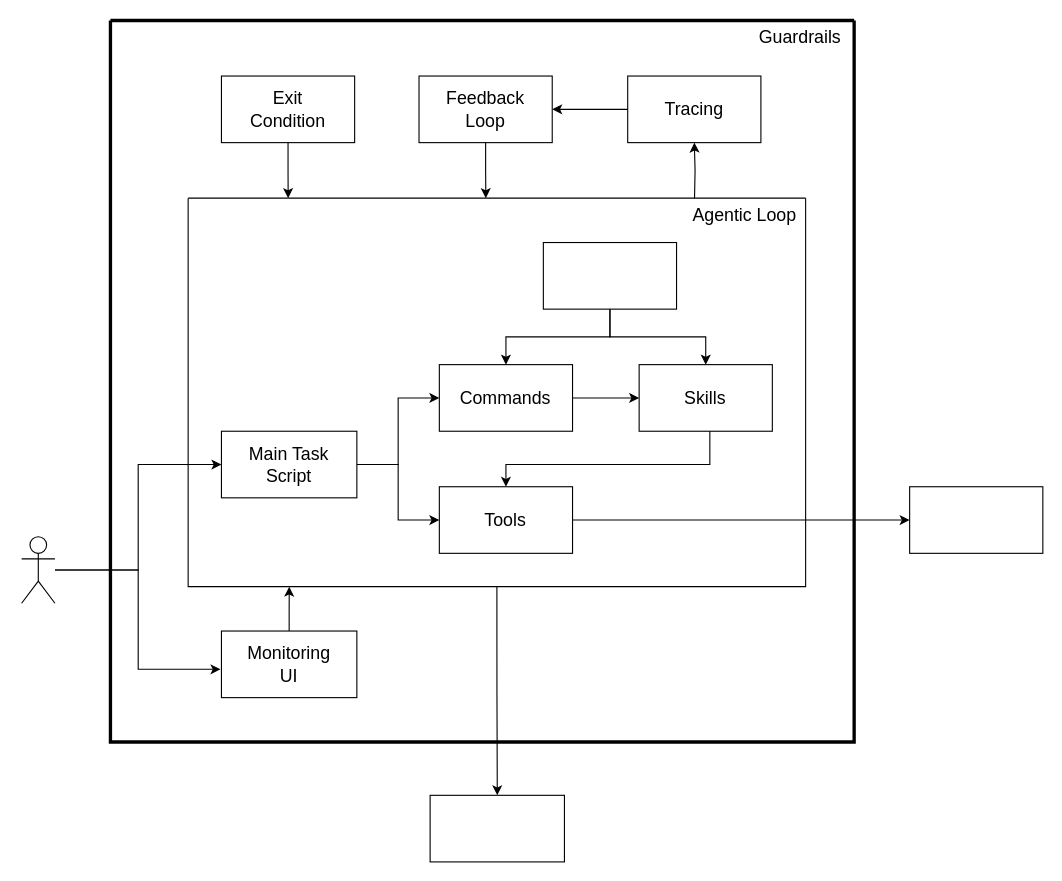
This 1062x881 diagram has some shape labels left out. The shapes that lost their labels are listed below. From the top down, each one's centre as x and y in pixels, then its label:
point (609, 275): Rules
point (976, 519): External Platforms
point (38, 569): User
point (496, 828): Project
